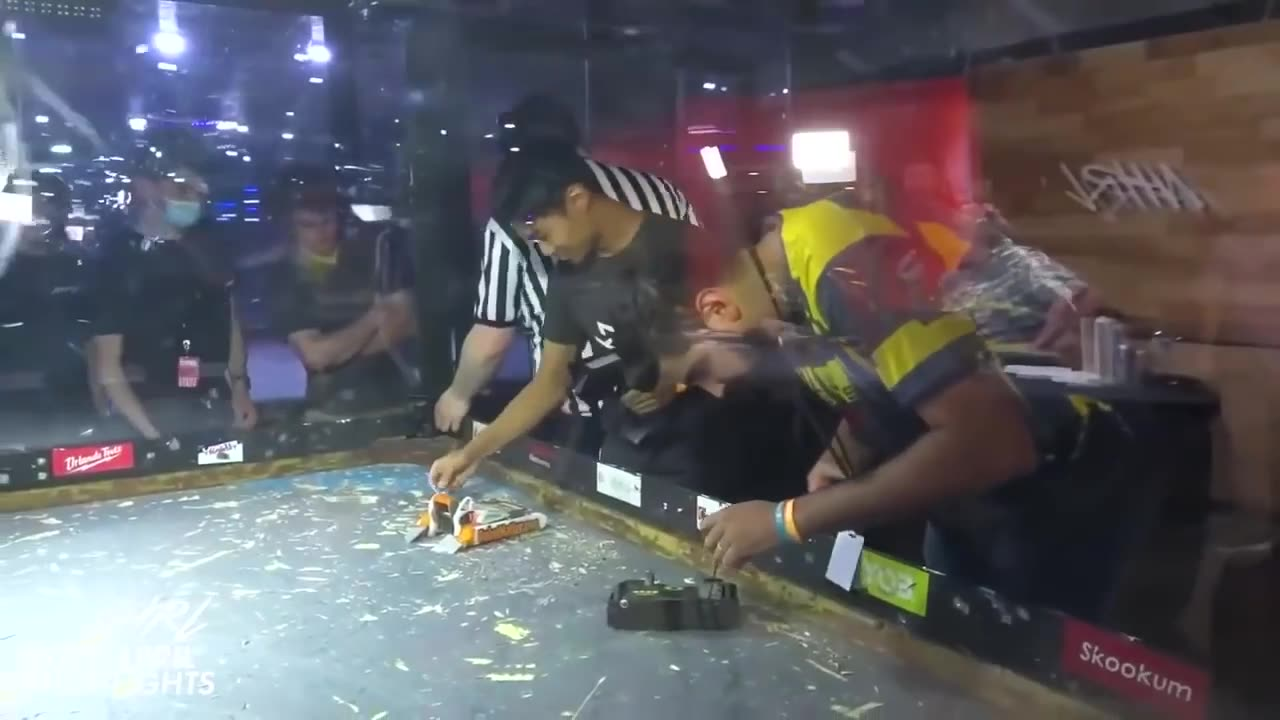combatbot: (609, 572, 742, 634), (414, 494, 550, 553)
